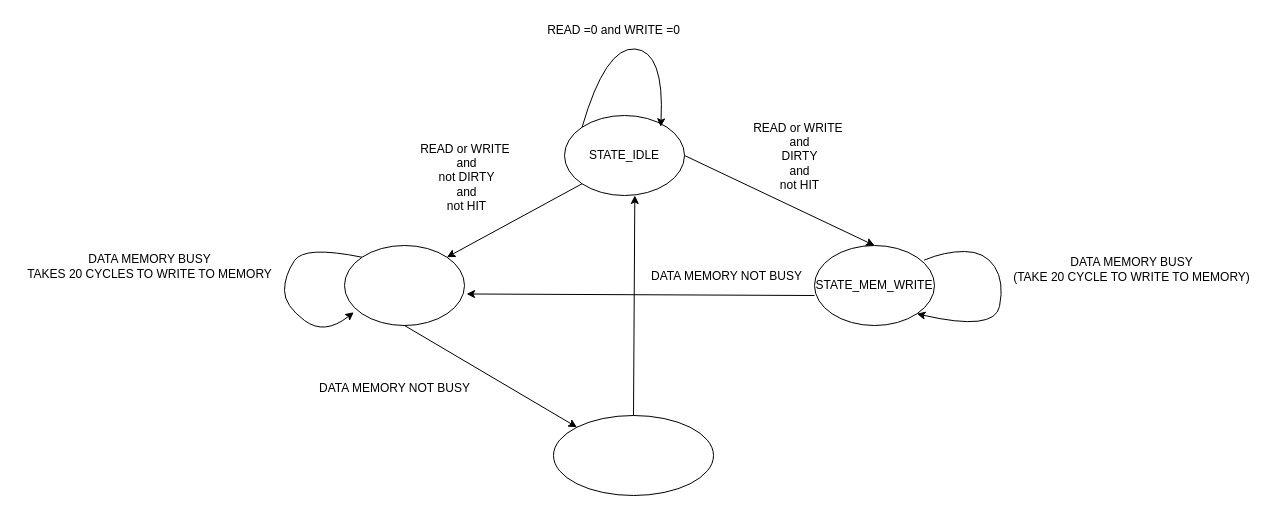
The diagram is 1275 pixels wide and 513 high, and some of its shapes have lost their labels. The shapes that lost their labels are listed below. From the top down, each one's centre as x and y in pixels, then its label:
At (x=404, y=285): "STATE_MEM_READ".
At (x=633, y=455): "STATE_CACHE_UPDATE".
